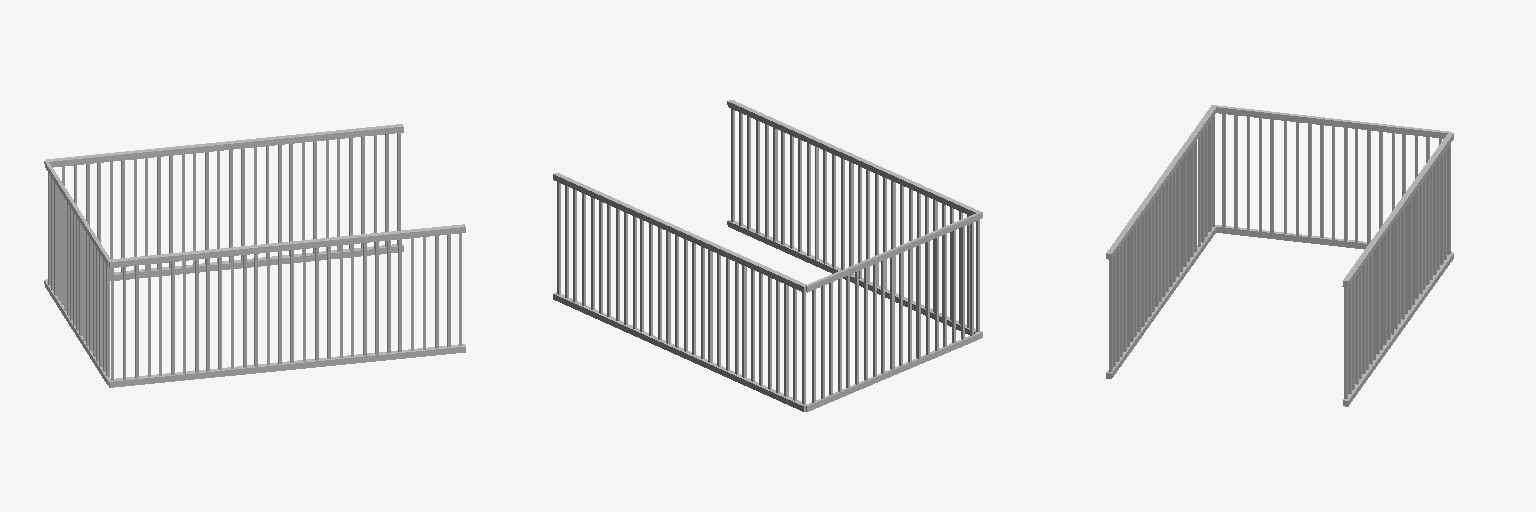
The model's file is MonsterStartGate.obj.
3 renders of one model, left to right at view 1: azimuth 30°, elevation 25°; view 2: azimuth 150°, elevation 25°; view 3: azimuth 270°, elevation 25°, orthographic.
Parts seen in each view (by area): view 1: polySurface98; view 2: polySurface98; view 3: polySurface98.
Part boxes in pixels (left/top/right/bottom): polySurface98: left=44, top=124, right=465, bottom=387; polySurface98: left=553, top=100, right=982, bottom=411; polySurface98: left=1106, top=105, right=1453, bottom=406.
Size of the model in its own units: 42.57 by 14.16 by 35.54.